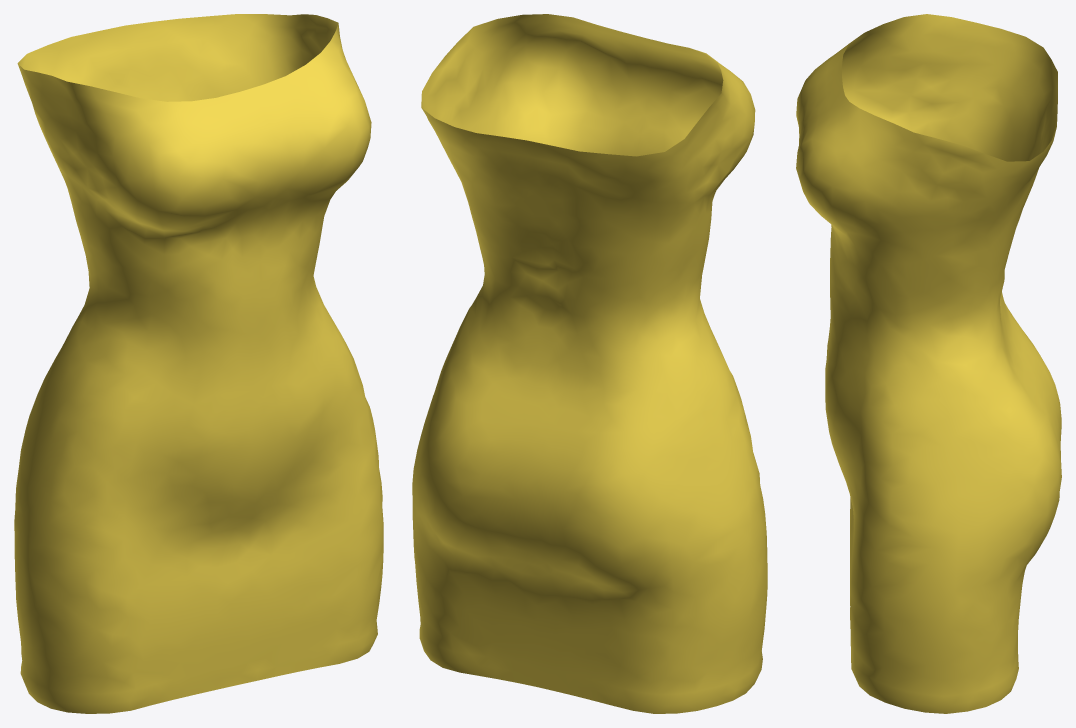
File: Ydress.fbx
The picture shows the model from 3 angles, left to right: view 1: azimuth 30°, elevation 25°; view 2: azimuth 150°, elevation 25°; view 3: azimuth 270°, elevation 25°; orthographic projection. The views are drawn at different scales.
Visible parts, largest first — view 1: Yellow dress.002; view 2: Yellow dress.002; view 3: Yellow dress.002.
Boxes of the visible parts, x1,y1,x2,y2 form: Yellow dress.002: [14, 14, 383, 713]; Yellow dress.002: [412, 14, 767, 713]; Yellow dress.002: [796, 14, 1061, 713].
Bounding box in the file's own units: 7395 × 12900 × 5427.
